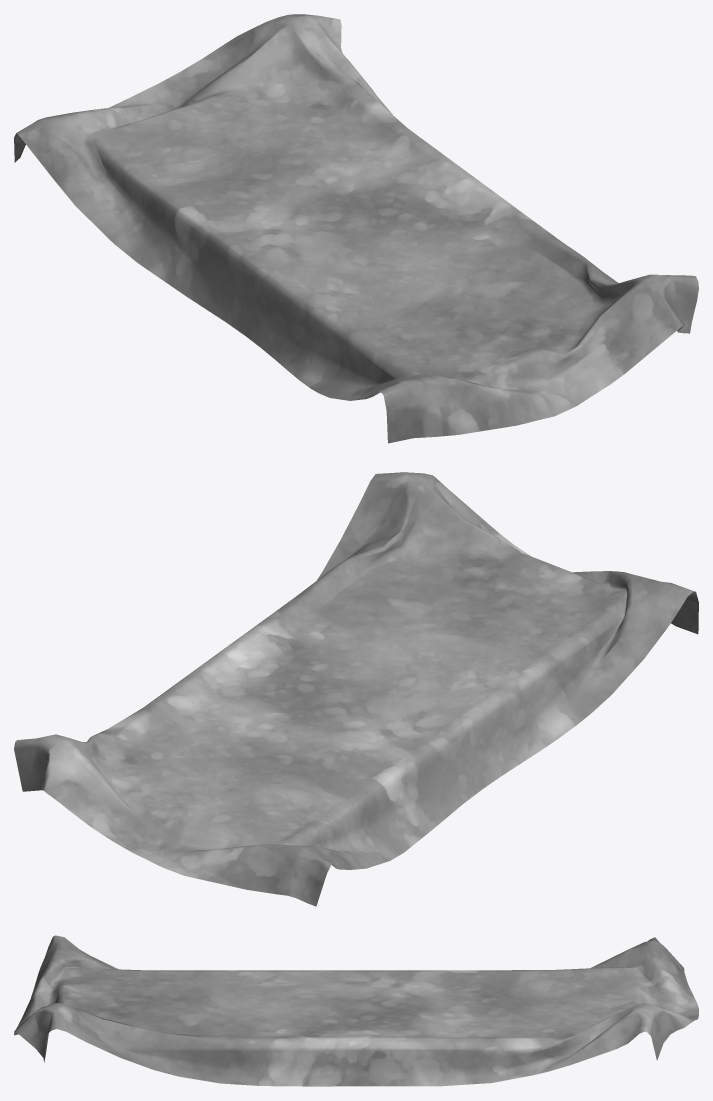
The model's file is SM_ClothSet_01b.fbx.
The picture shows the model from 3 angles, top to bottom: view 1: azimuth 30°, elevation 25°; view 2: azimuth 150°, elevation 25°; view 3: azimuth 270°, elevation 25°; orthographic projection. The views are drawn at different scales.
Visible parts, largest first — view 1: SM_ClothSet_01b_LOD0; view 2: SM_ClothSet_01b_LOD0; view 3: SM_ClothSet_01b_LOD0.
Boxes of the visible parts, x1,y1,x2,y2 form: SM_ClothSet_01b_LOD0: (14, 14, 698, 443); SM_ClothSet_01b_LOD0: (14, 472, 698, 906); SM_ClothSet_01b_LOD0: (14, 935, 698, 1086).
Bounding box in the file's own units: 165 × 372 × 62.66.
